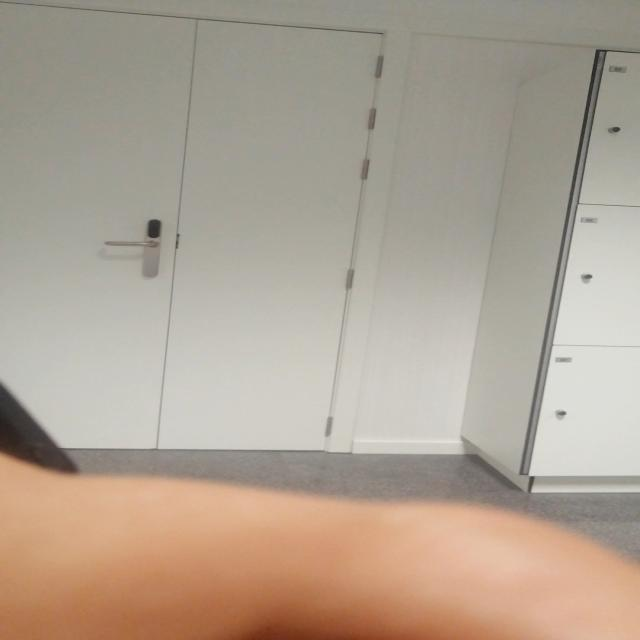door_handle: (94, 237, 162, 250)
